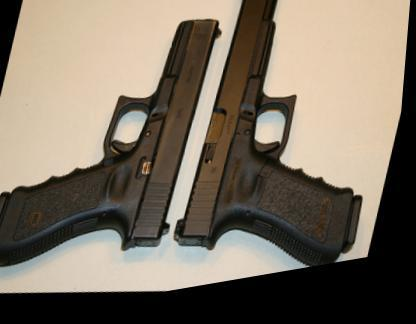pistol: (166, 0, 414, 296), (0, 0, 226, 296)
